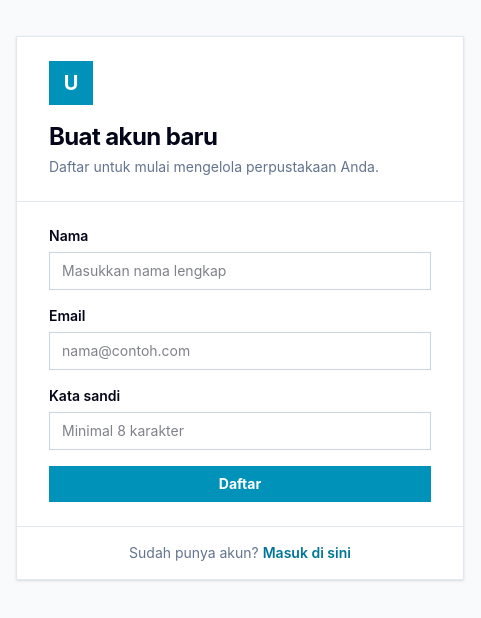
RegisterPage › blocks submission when fields are invalid
Type "budi@example.com" into the field labelled "Email" at {"x": 240, "y": 351}, box [49,332,431,370]
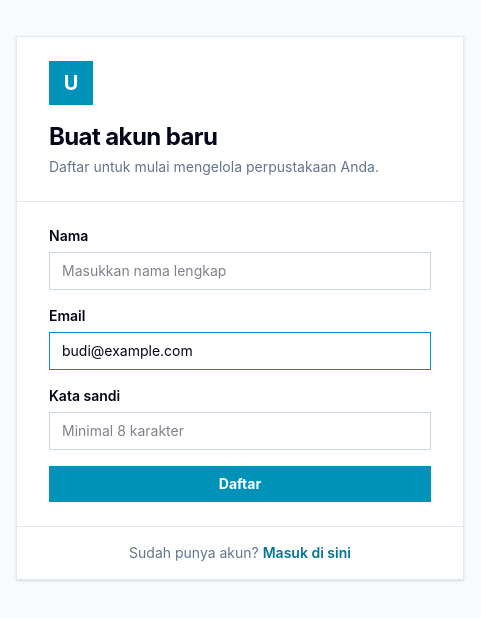
Type "1234567" into the password field labelled "Kata sandi" at {"x": 240, "y": 431}, box [49,412,431,450]
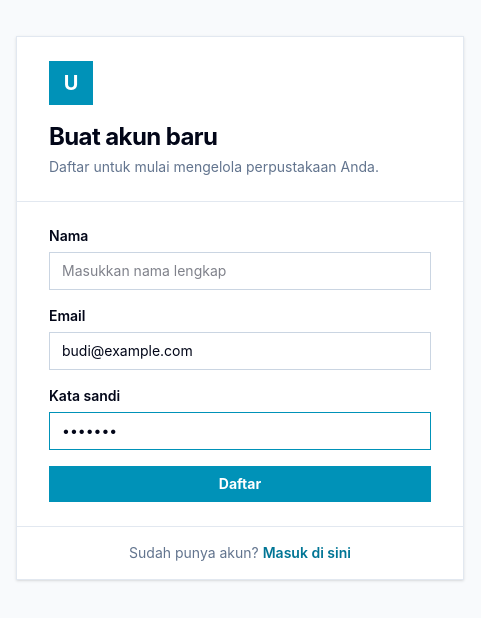
Click the button "Daftar" at {"x": 240, "y": 484}, box [49,466,431,502]
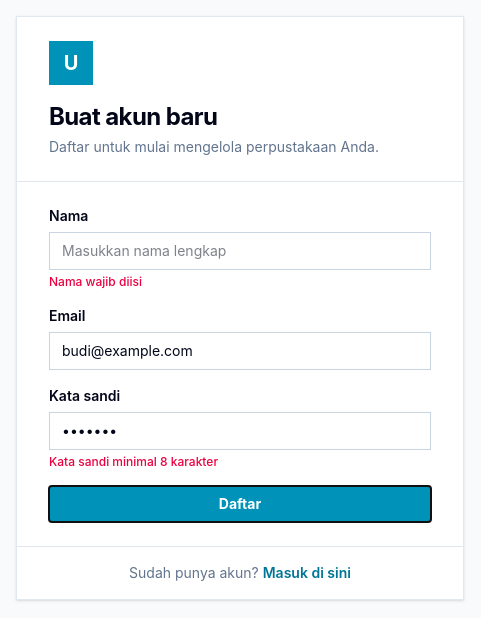
Check: the text "Nama wajib diisi" is shown, box [49,274,142,289]
Check: the text "Kata sandi minimal 8 karakter" is shown, box [49,454,218,469]
